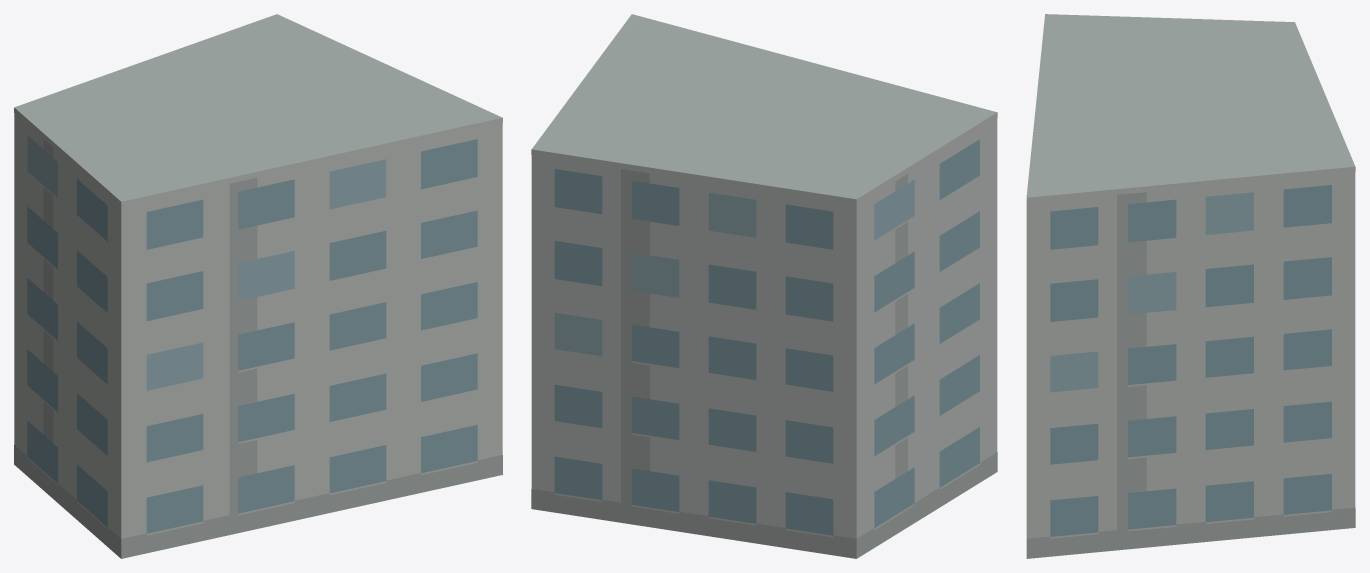
File: residential-099ef1a6-b654-455e-9a2d-e64829d90ed1.glb
3 renders of one model, left to right at view 1: azimuth 30°, elevation 25°; view 2: azimuth 150°, elevation 25°; view 3: azimuth 270°, elevation 25°, orthographic.
Parts seen in each view (by area): view 1: residential-099ef1a6-b654-455e-9a2d-e64829d90ed1.tmp; view 2: residential-099ef1a6-b654-455e-9a2d-e64829d90ed1.tmp; view 3: residential-099ef1a6-b654-455e-9a2d-e64829d90ed1.tmp.
Boxes of the visible parts, bbox=[...] form: residential-099ef1a6-b654-455e-9a2d-e64829d90ed1.tmp: bbox=[14, 14, 502, 558]; residential-099ef1a6-b654-455e-9a2d-e64829d90ed1.tmp: bbox=[531, 14, 997, 558]; residential-099ef1a6-b654-455e-9a2d-e64829d90ed1.tmp: bbox=[1026, 14, 1355, 558].
Size of the model in its own units: 16.65 by 15.25 by 12.6.
